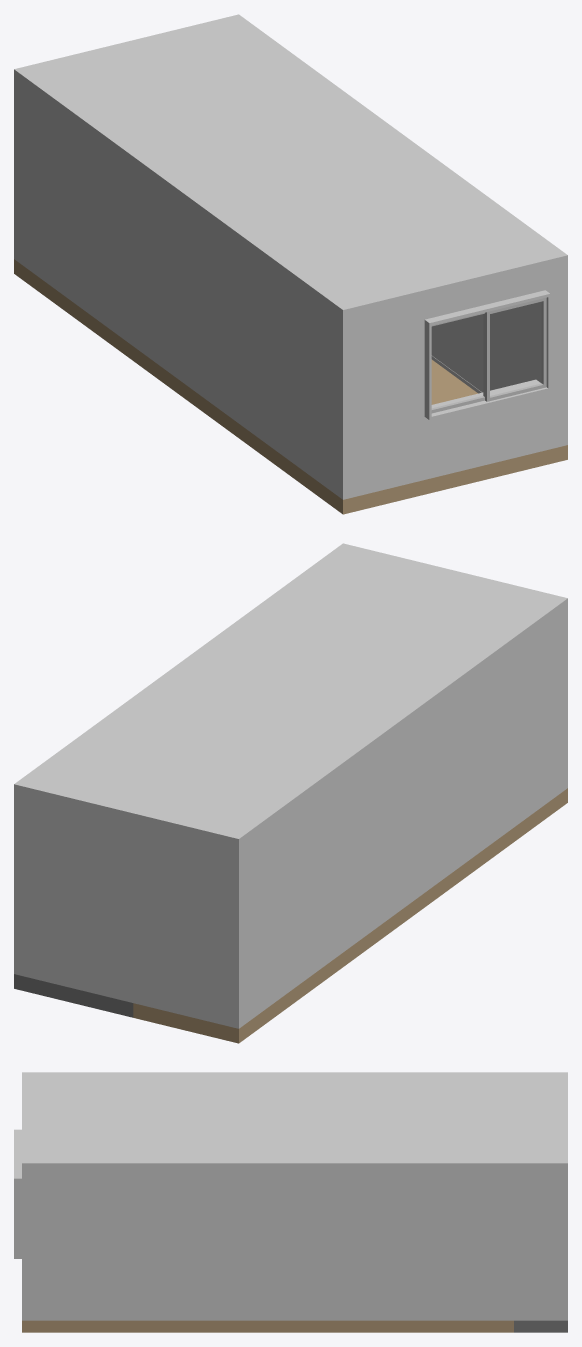
File: roomSimple.glb
The picture shows the model from 3 angles, top to bottom: view 1: azimuth 30°, elevation 25°; view 2: azimuth 150°, elevation 25°; view 3: azimuth 270°, elevation 25°; orthographic projection. The views are drawn at different scales.
Parts seen in each view (by area): view 1: オブジェクト_23, オブジェクト_54, オブジェクト_193, オブジェクト_186, オブジェクト_189, オブジェクト_175; view 2: オブジェクト_23, オブジェクト_54, オブジェクト_172, オブジェクト_193, オブジェクト_186, オブジェクト_194, オブジェクト_180; view 3: オブジェクト_23, オブジェクト_54, オブジェクト_193, オブジェクト_186, オブジェクト_189, オブジェクト_194.
Part boxes in pixels (x1,y1,x2,y2): オブジェクト_23: (14,84,567,499); オブジェクト_54: (14,14,567,324); オブジェクト_193: (14,259,567,514); オブジェクト_186: (36,50,186,118); オブジェクト_189: (424,290,550,420); オブジェクト_175: (485,297,546,401); オブジェクト_23: (14,613,567,1028); オブジェクト_54: (14,543,567,853); オブジェクト_172: (79,844,131,1002); オブジェクト_193: (133,788,567,1043); オブジェクト_186: (146,761,297,829); オブジェクト_194: (14,974,133,1017); オブジェクト_180: (77,841,133,1002); オブジェクト_23: (22,1175,567,1320); オブジェクト_54: (22,1072,567,1175); オブジェクト_193: (22,1320,513,1332); オブジェクト_186: (448,1077,554,1112); オブジェクト_189: (14,1129,21,1258); オブジェクト_194: (514,1320,567,1332).
Size of the model in its own units: 3.2 by 2.78 by 8.23.
